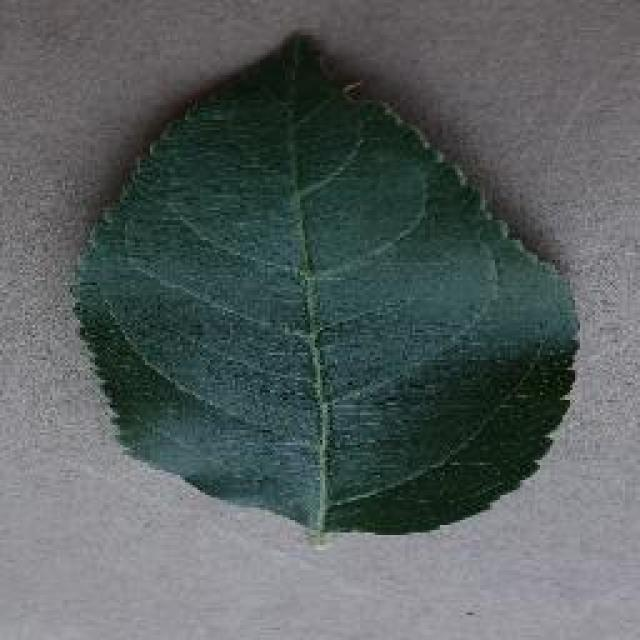apple healthy: (68, 28, 582, 542)
